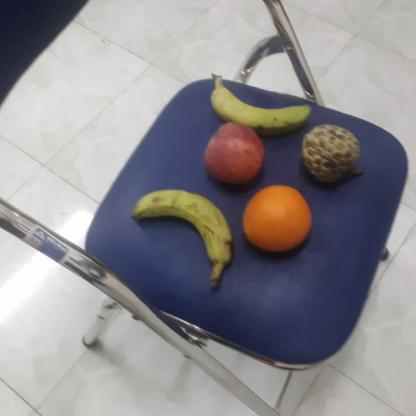annona: (300, 124, 360, 186)
apple: (199, 121, 264, 186)
banana: (129, 187, 234, 265), (209, 84, 312, 135)
orange: (241, 183, 313, 256)
